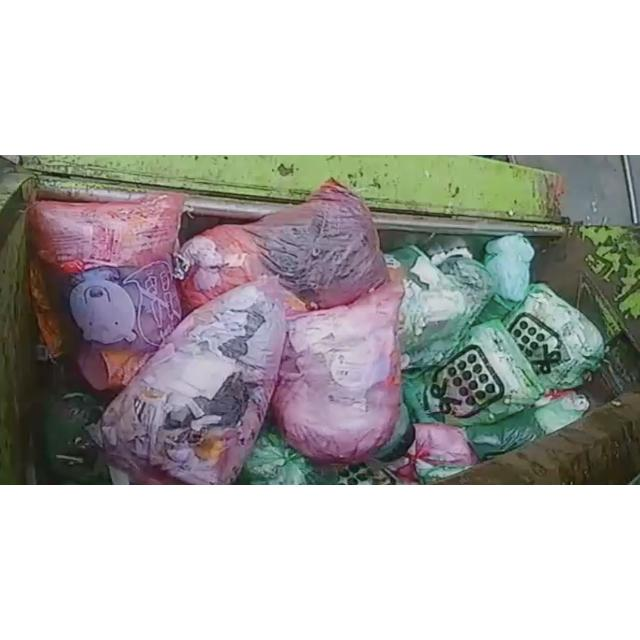general_trashbag: (404, 320, 544, 426), (506, 284, 604, 390), (388, 245, 466, 370), (475, 234, 535, 324), (439, 256, 492, 327)
other_trashbag: (100, 278, 285, 485), (28, 194, 184, 392), (175, 179, 388, 314), (272, 270, 404, 465)
